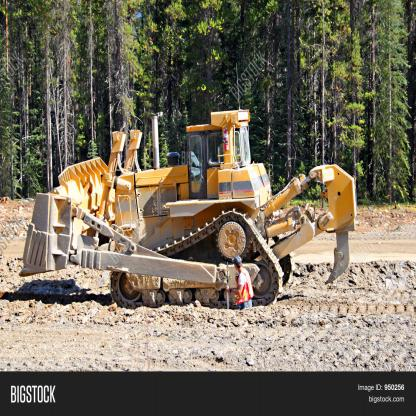bull_dozer/loader/grader: (19, 102, 375, 326)
